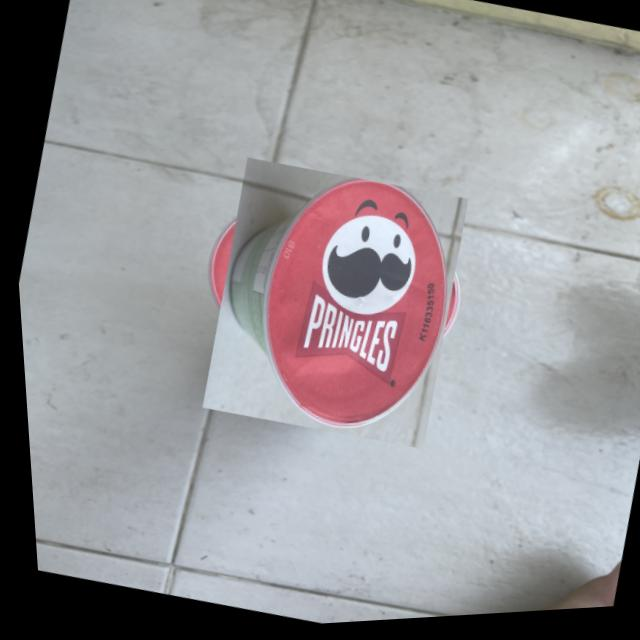a pringles: (178, 156, 483, 459)
